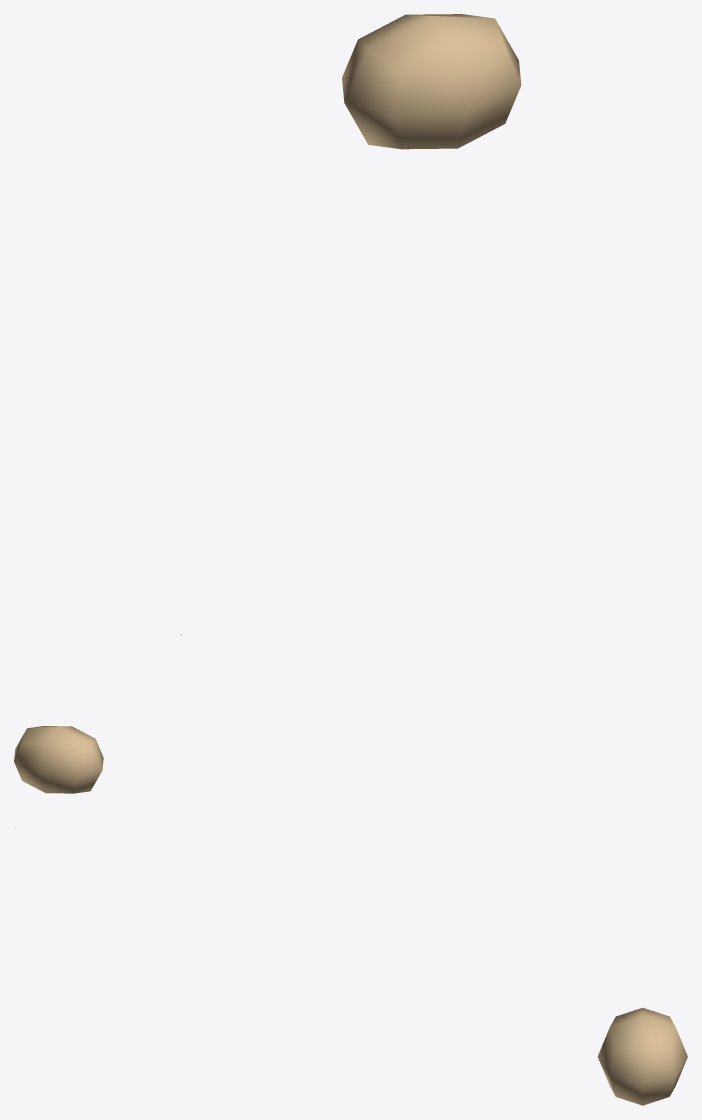
Rendered from provisoire.fbx.
3 views of the same model, one above another, from view 1: azimuth 30°, elevation 25°; view 2: azimuth 150°, elevation 25°; view 3: azimuth 270°, elevation 25° (orthographic). The views are drawn at different scales.
Visible parts, largest first — view 1: Cube_001_45, Cube_001_50; view 2: Cube_001_45, Cube_001_50; view 3: Cube_001_45.
Part boxes in pixels (box(x1,y1,x2,y2)): Cube_001_45: box(342, 14, 521, 149); Cube_001_50: box(346, 14, 520, 114); Cube_001_45: box(14, 726, 103, 793); Cube_001_50: box(15, 726, 103, 793); Cube_001_45: box(597, 1007, 687, 1105).
Bounding box in the file's own units: 2250088 × 335587 × 2501624.
